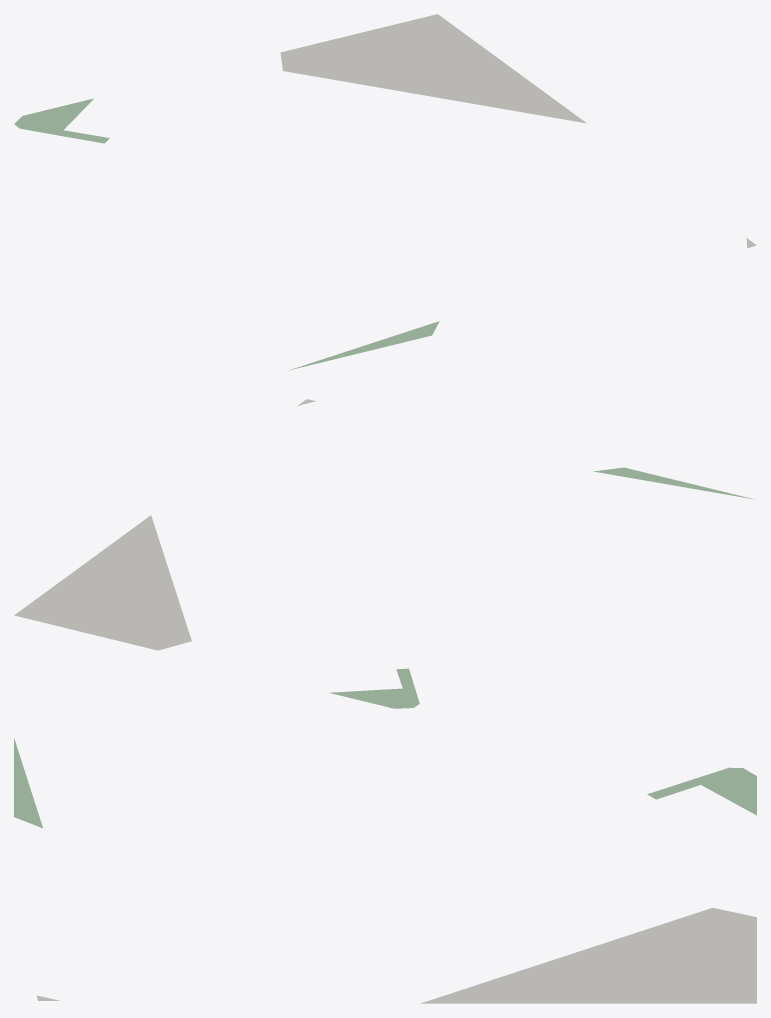
Rendered from 106_110_mid.glb.
3 views of the same model, one above another, from view 1: azimuth 30°, elevation 25°; view 2: azimuth 150°, elevation 25°; view 3: azimuth 270°, elevation 25° (orthographic). The views are drawn at different scales.
Size of the model in its own units: 421 by 2.37 by 500.
